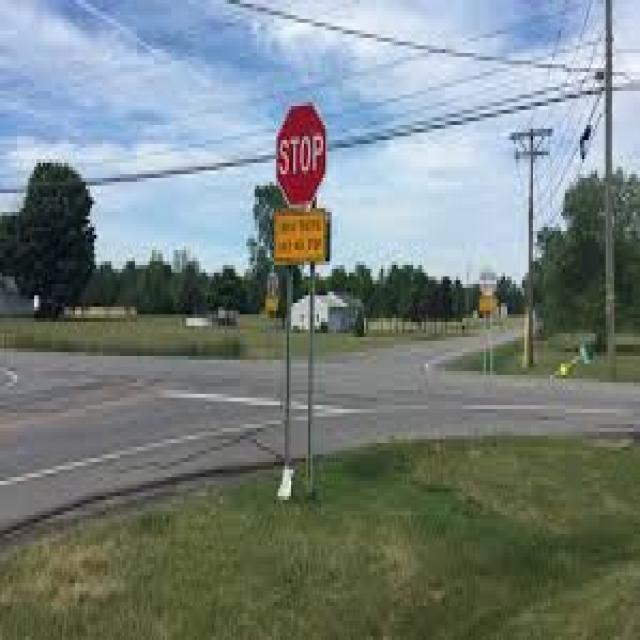stop-sign: (267, 98, 336, 190)
